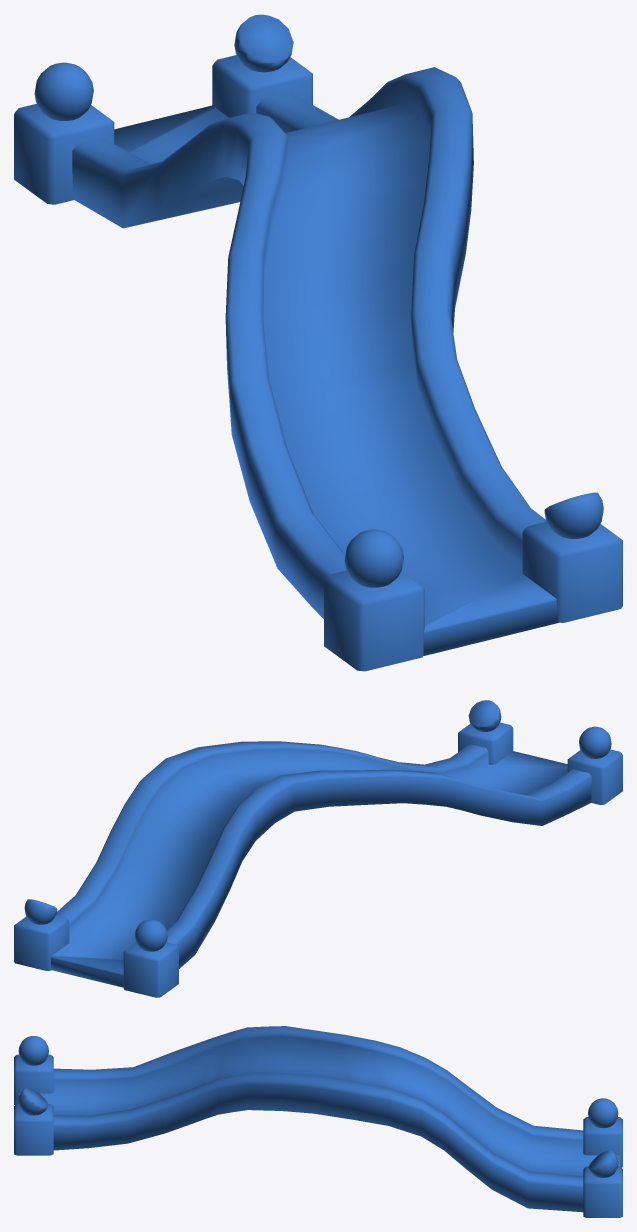
The model's file is bridge_01.fbx.
3 views of the same model, one above another, from view 1: azimuth 30°, elevation 25°; view 2: azimuth 150°, elevation 25°; view 3: azimuth 270°, elevation 25° (orthographic). The views are drawn at different scales.
Visible parts, largest first — view 1: bridge_01; view 2: bridge_01; view 3: bridge_01.
Boxes of the visible parts, x1,y1,x2,y2 form: bridge_01: (14, 14, 622, 671); bridge_01: (14, 700, 622, 997); bridge_01: (14, 1026, 622, 1217).
Bounding box in the file's own units: 3003 × 1221 × 6045.
